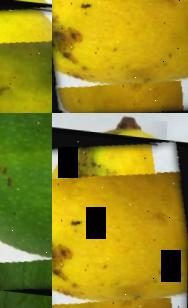PartiallyRipe: (0, 0, 52, 113)
Ripe: (52, 130, 188, 308), (52, 0, 188, 113)
Unripe: (0, 113, 52, 301)
